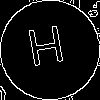H: (25, 25, 68, 76)
